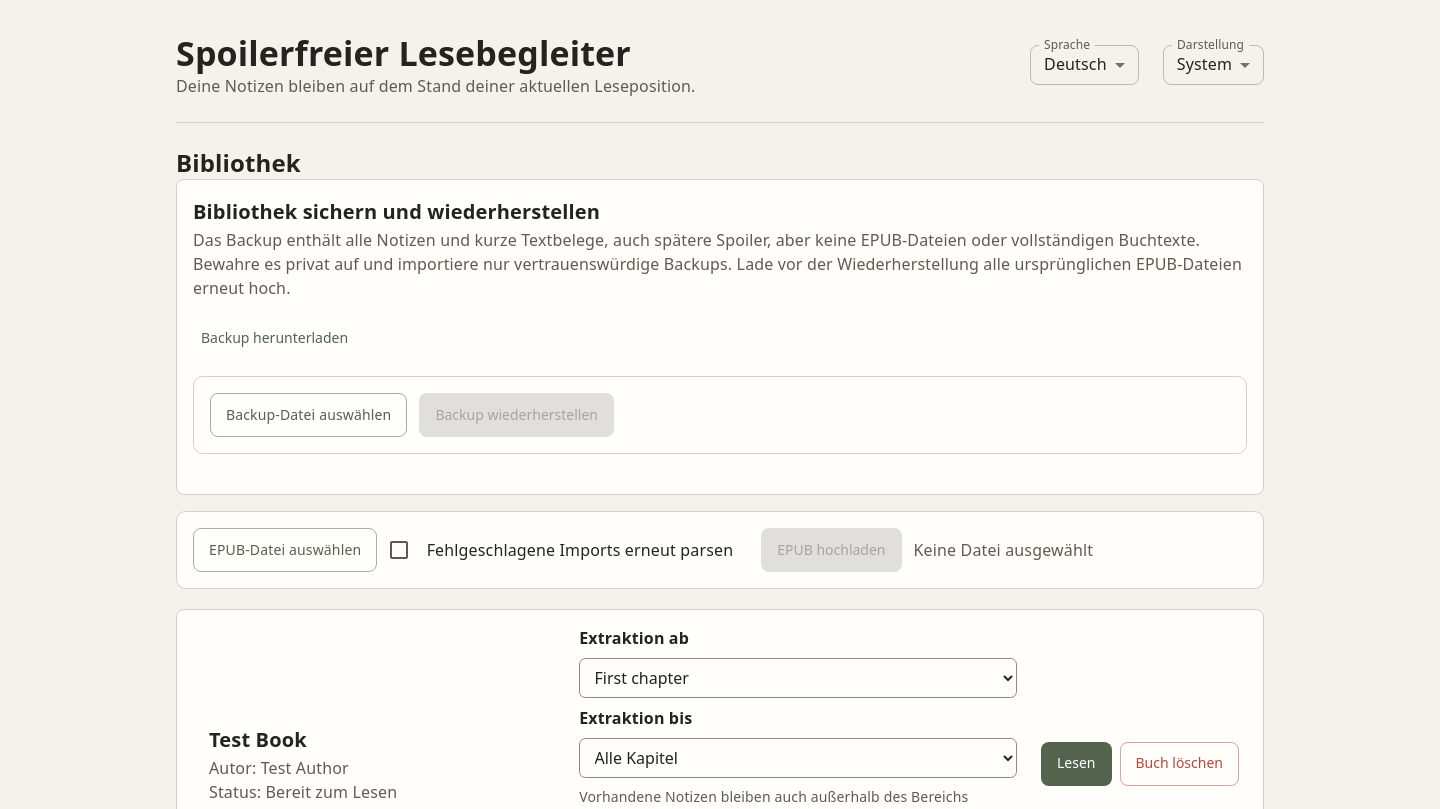
Scenario: App › exports notes at the active notes position in JSON and Markdown
Later steps or results of the test are not shown.
Click the button "Lesen". click: coordinates (1076, 764)
box: x1=1041 y1=742 x2=1112 y2=786
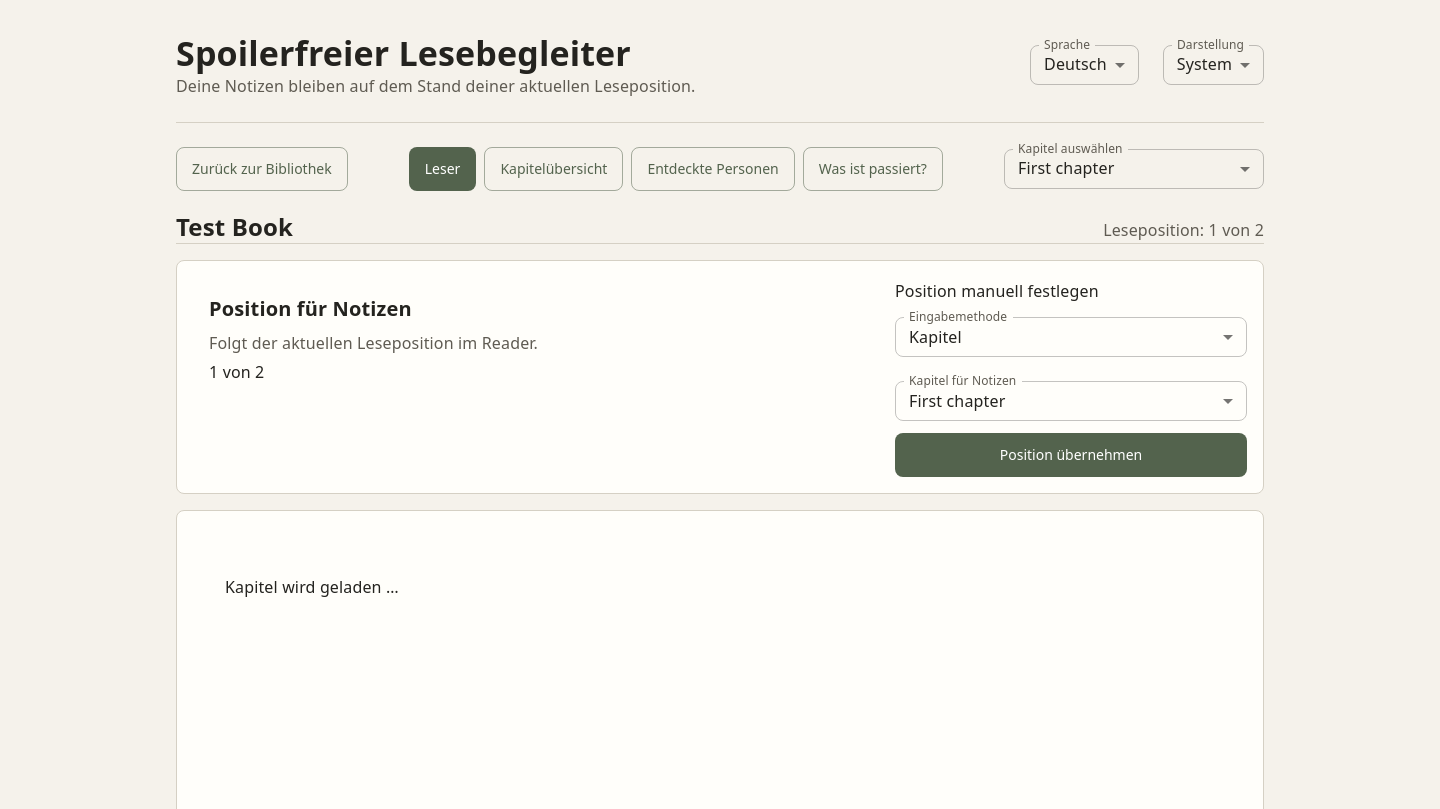
Now the text "Folgt der aktuellen Leseposition im Reader." is shown, box x1=209 y1=331 x2=592 y2=355
